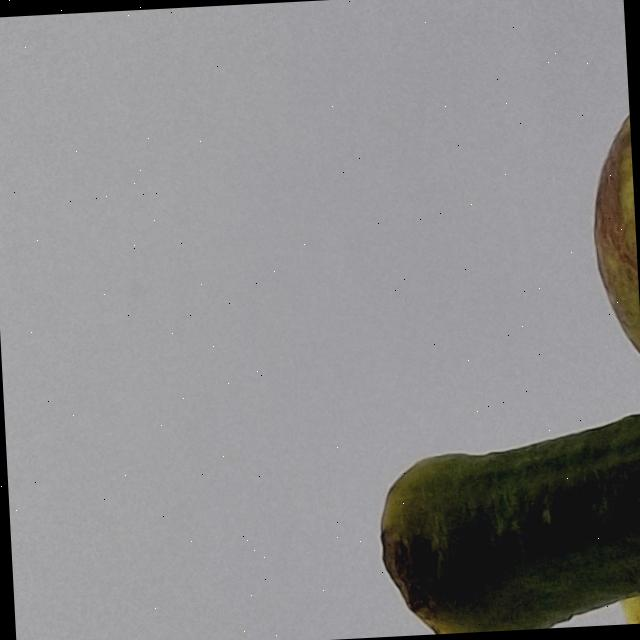mangosteen: (298, 0, 640, 640)
